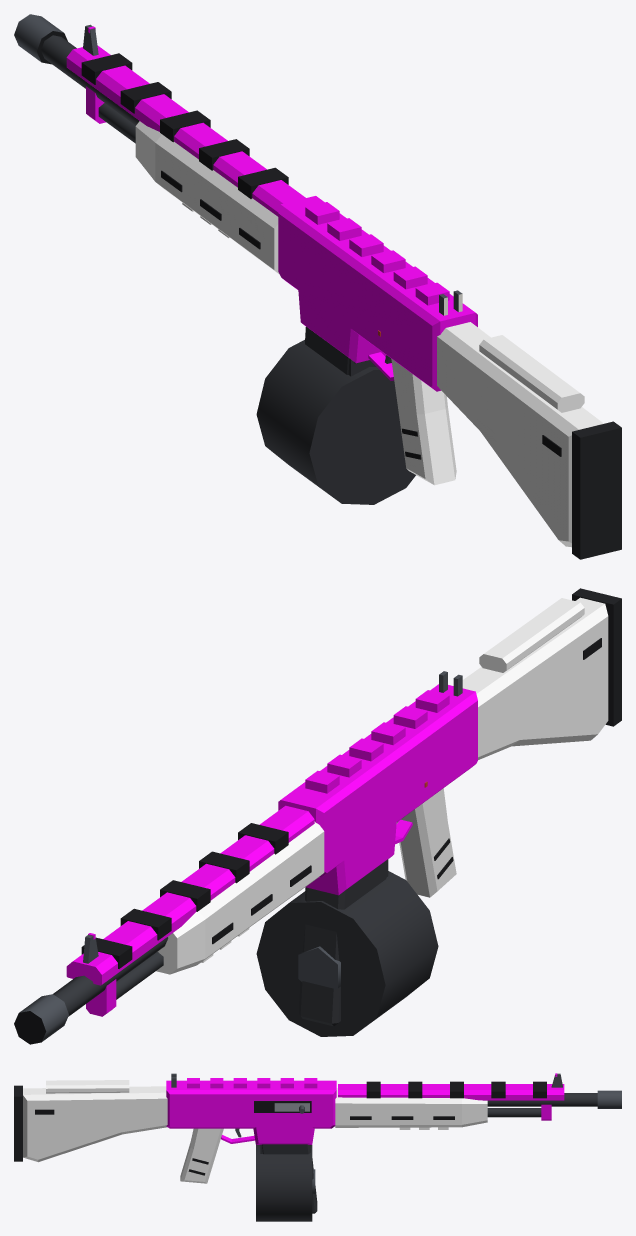
The model's file is shotgun_auto.glb.
The picture shows the model from 3 angles, top to bottom: view 1: azimuth 30°, elevation 25°; view 2: azimuth 150°, elevation 25°; view 3: azimuth 270°, elevation 25°; orthographic projection. The views are drawn at different scales.
Visible parts, largest first — view 1: shotgun_auto__body, shotgun_auto__mag_ext, shotgun_auto__mag; view 2: shotgun_auto__body, shotgun_auto__mag_ext, shotgun_auto__mag; view 3: shotgun_auto__body, shotgun_auto__mag_ext, shotgun_auto__mag.
Boxes of the visible parts, x1,y1,x2,y2 form: shotgun_auto__body: (14, 14, 621, 559); shotgun_auto__mag_ext: (256, 340, 415, 504); shotgun_auto__mag: (305, 326, 369, 374); shotgun_auto__body: (14, 588, 621, 1044); shotgun_auto__mag_ext: (256, 859, 438, 1036); shotgun_auto__mag: (299, 860, 387, 1026); shotgun_auto__body: (14, 1073, 621, 1183); shotgun_auto__mag_ext: (256, 1144, 315, 1221); shotgun_auto__mag: (262, 1144, 317, 1213).
Size of the model in its own units: 0.124 by 0.2485 by 0.95.
Materials: 1 (1 with a texture image).
